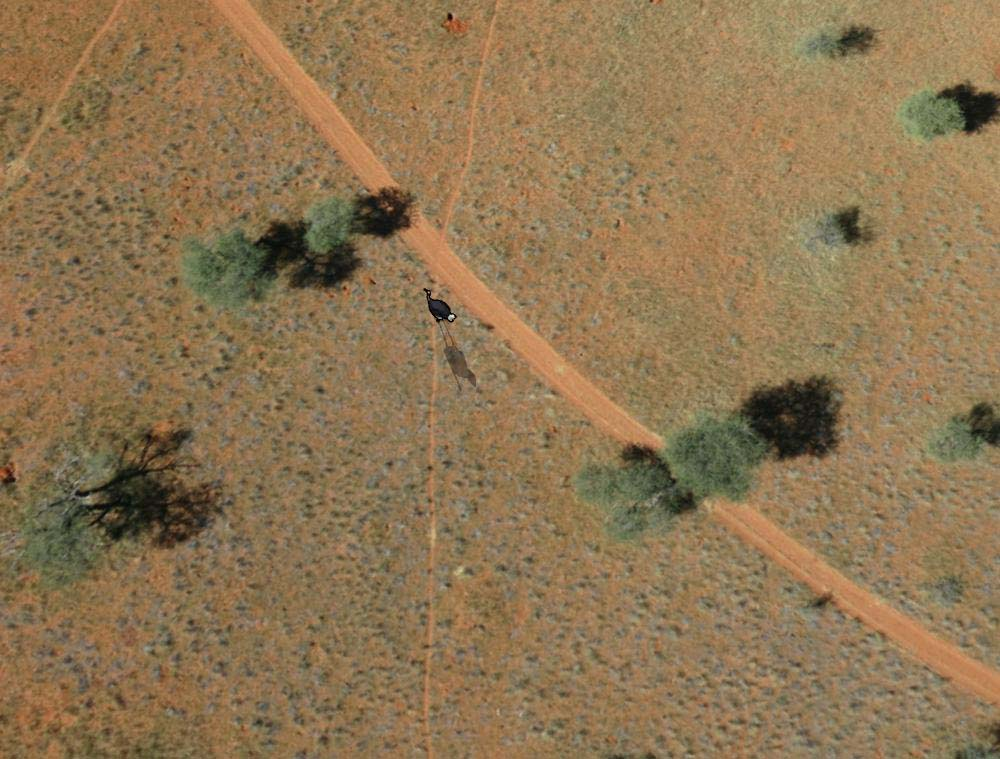ostrich: (421, 283, 459, 325)
